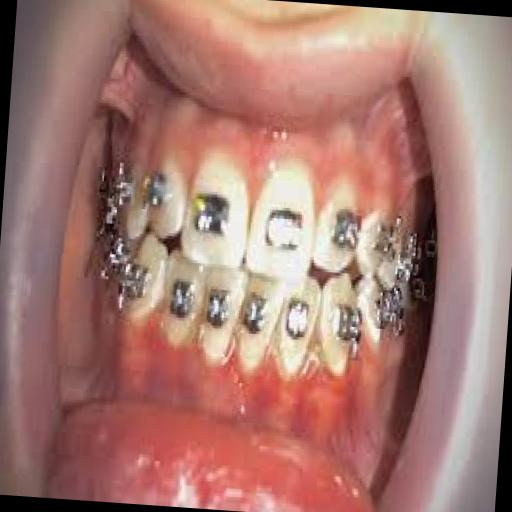correct_brace: (260, 199, 310, 259), (188, 182, 233, 244), (328, 198, 364, 259), (332, 298, 368, 354), (282, 293, 315, 350), (168, 268, 198, 330), (202, 280, 234, 337), (118, 254, 150, 310), (240, 282, 270, 340), (140, 166, 168, 216), (370, 216, 398, 259), (114, 162, 136, 210)
incorrect_brace: (315, 181, 368, 284), (275, 270, 321, 380), (158, 252, 204, 356), (146, 158, 188, 246)
